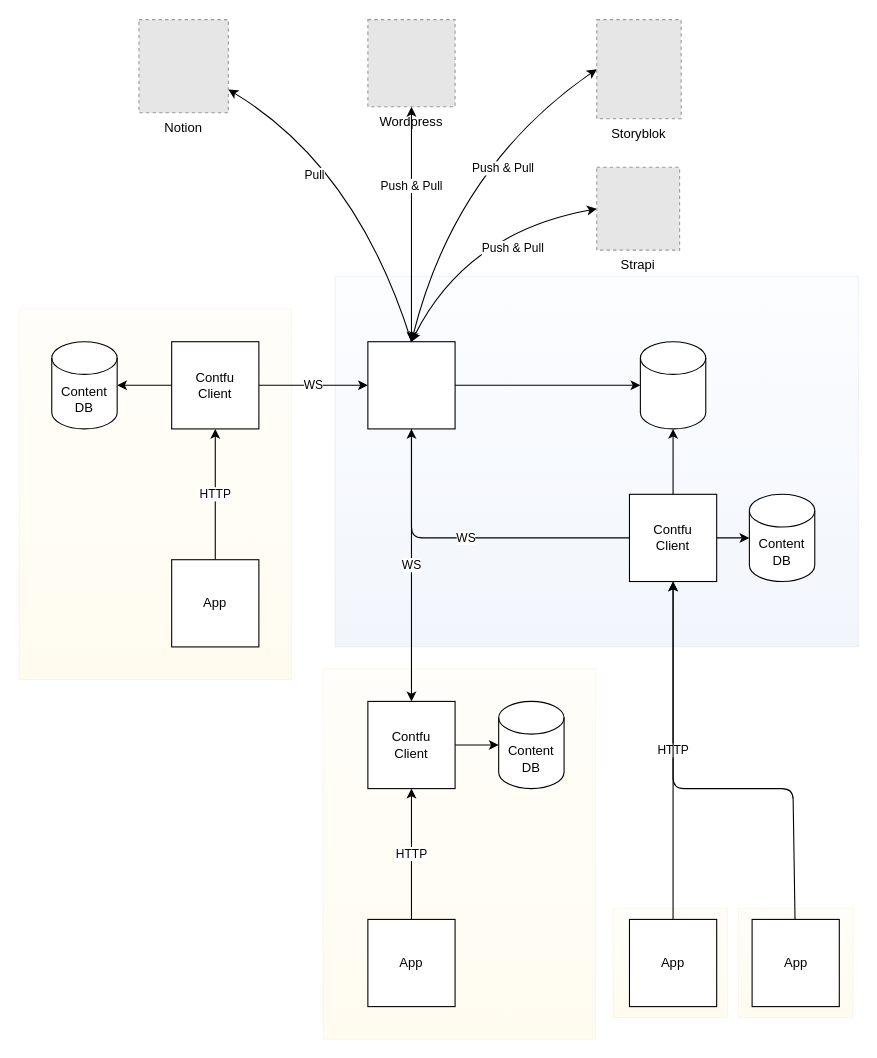
The diagram is 877 pixels wide and 1058 high, and some of its shapes have lost their labels. Grey dashed boxes stand in for pictures. The shapes that lost their labels are listed below. From the top down, each one's box as (x1, y1, x2, y2) in pixels, then its label:
(367, 341, 455, 429): Contfu Server
(639, 341, 706, 429): Access Service
